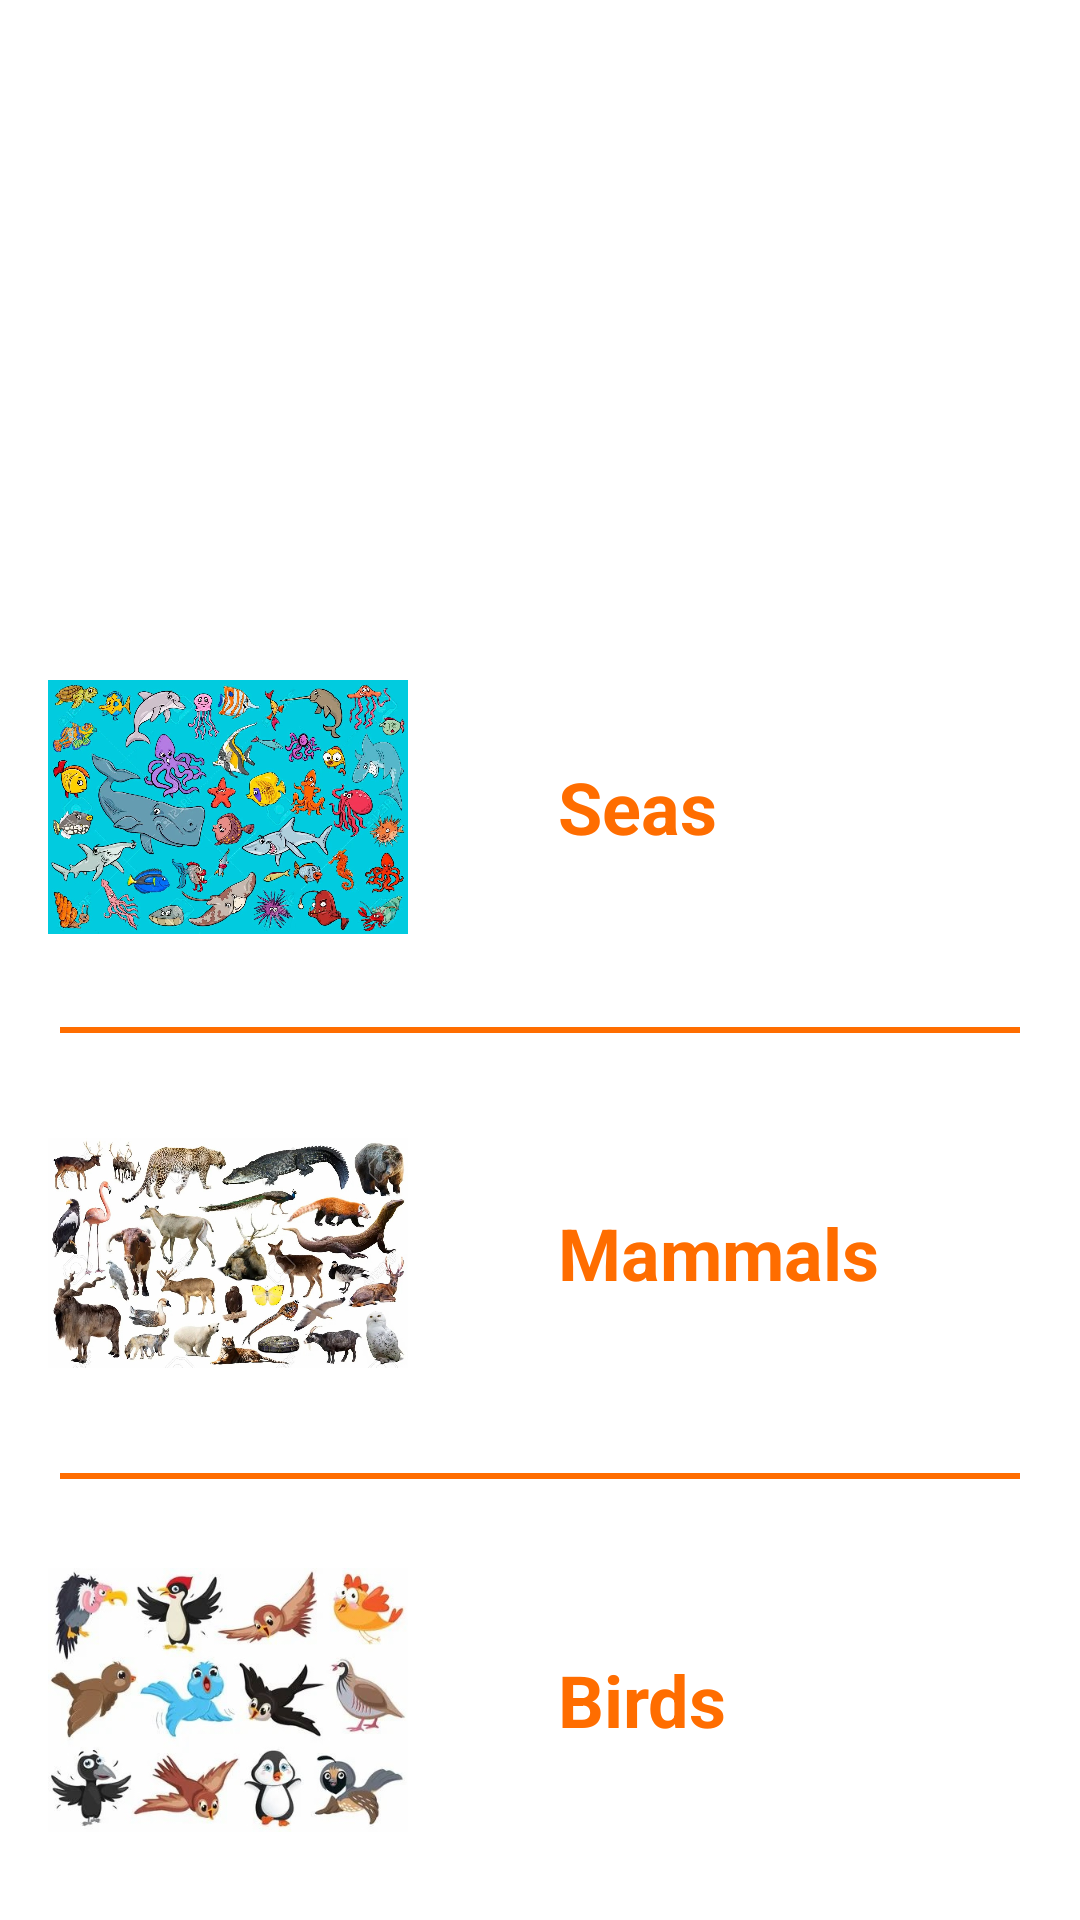

Named icons in this screenshot (1080px x 1920px) and their centers, point (x, y):
bird group animal: point (228, 1699)
sea group animal: point (228, 807)
